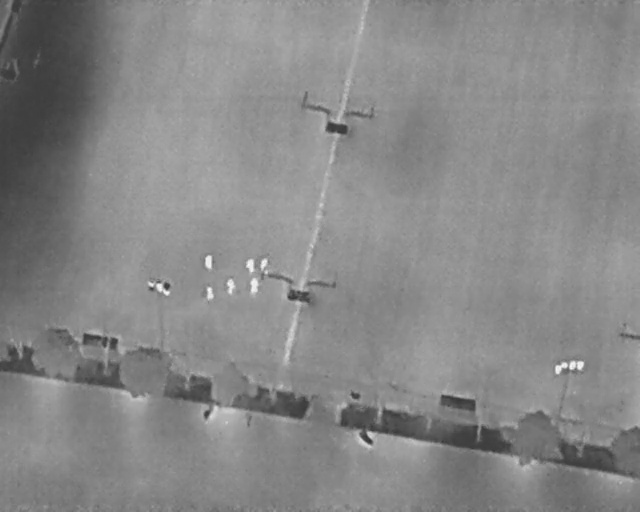Person: (226, 278, 236, 295), (249, 276, 258, 294), (204, 253, 213, 270), (246, 257, 255, 274), (260, 256, 269, 272), (206, 285, 215, 300)
